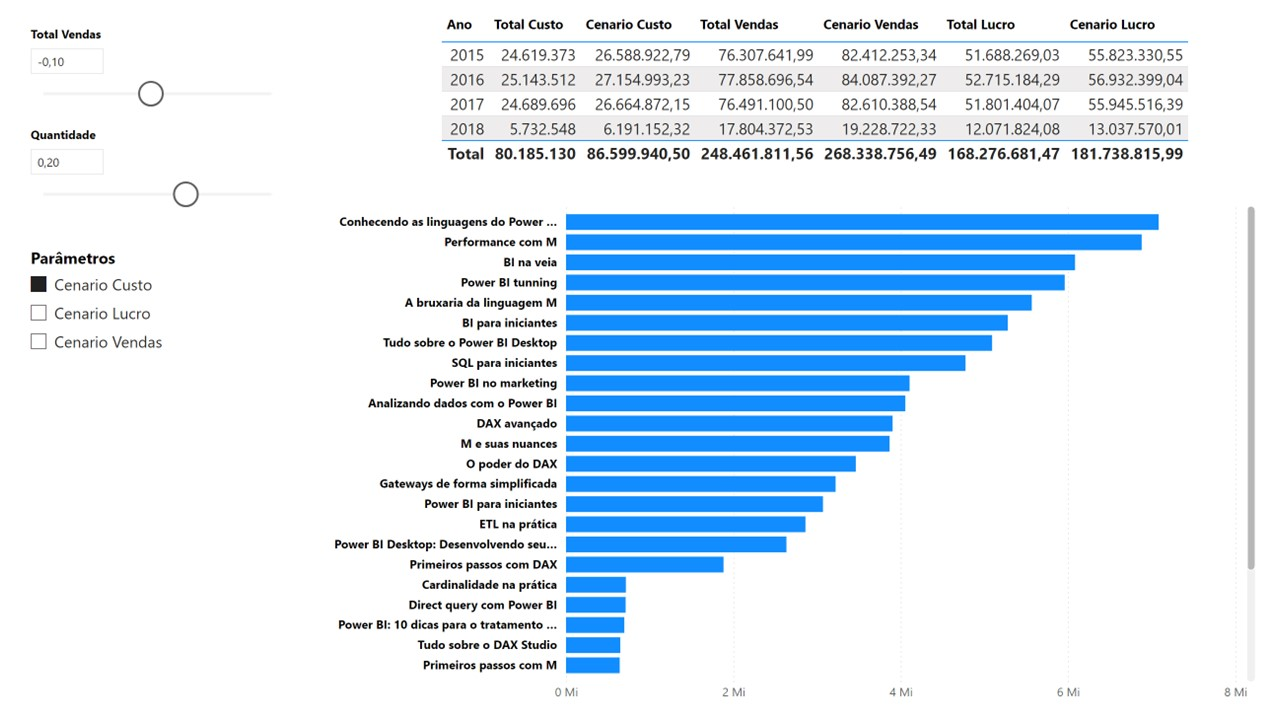

This screenshot's page, from the dashboard's own definition file:
{"tool":"powerbi","page":{"name":"Análise Cenario de vendas","canvas":[1280,720],"ordinal":2},"visuals":[{"type":"slicer","fields":{"Values":["Total Vendas.Total Vendas"]},"box":[10.2,0,279.9,98.2],"z":0},{"type":"slicer","fields":{"Values":["Quantidade.Quantidade"]},"box":[10.2,102.7,279.9,93.7],"z":1000},{"type":"tableEx","fields":{"Values":["Tb_Calendario.Date.Variation.Hierarquia de datas.Ano","Medidas.Total Custo","Medidas.Cenario Custo","Medidas.Total Vendas","Medidas.Cenario Vendas","Medidas.Total Lucro","Medidas.Cenario Lucro"]},"box":[298,0,931.2,196.4],"z":2000},{"type":"slicer","fields":{"Values":["Parâmetros.Parâmetros"]},"box":[10.2,224.6,279.9,150.1],"z":3000},{"type":"barChart","fields":{"Y":["Medidas.Cenario Custo"],"Category":["Tb_Produtos.Nome do produto"]},"box":[290.1,196.4,956,523.7],"z":4000}]}

Visuals, with their boxes on the page's 1280x720 design canvas (x1, y1, x2, y2). These are canvas units, not pixel positions in the 1280x720 screenshot, which may show the page scaled, cropped or inside an application window:
slicer - Total Vendas.Total Vendas: bbox=[10, 0, 290, 98]
slicer - Quantidade.Quantidade: bbox=[10, 103, 290, 196]
tableEx - Tb_Calendario.Date.Variation.Hierarquia de datas.Ano x Medidas.Total Custo: bbox=[298, 0, 1229, 196]
slicer - Parâmetros.Parâmetros: bbox=[10, 225, 290, 375]
barChart - Medidas.Cenario Custo x Tb_Produtos.Nome do produto: bbox=[290, 196, 1246, 720]
